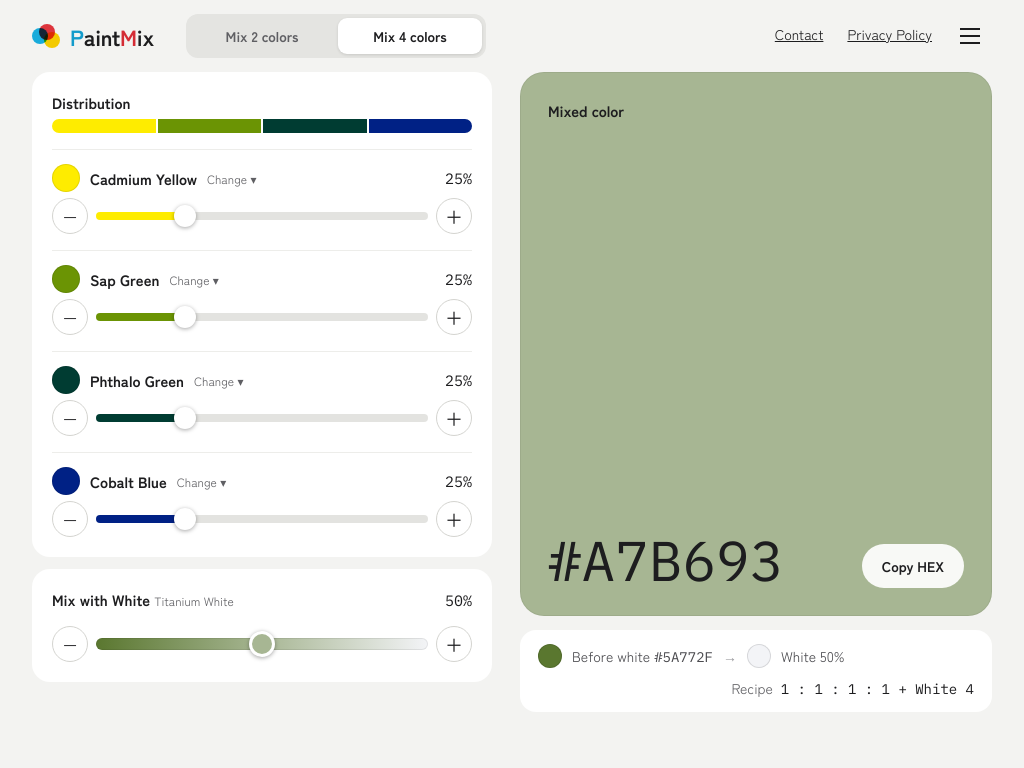
Test case: four-color mixing › selects a paint for a four-color slot
Click the button with aria-label "Select Color 3:" at (244, 380), box top-left (52, 362), bottom-right (435, 398)
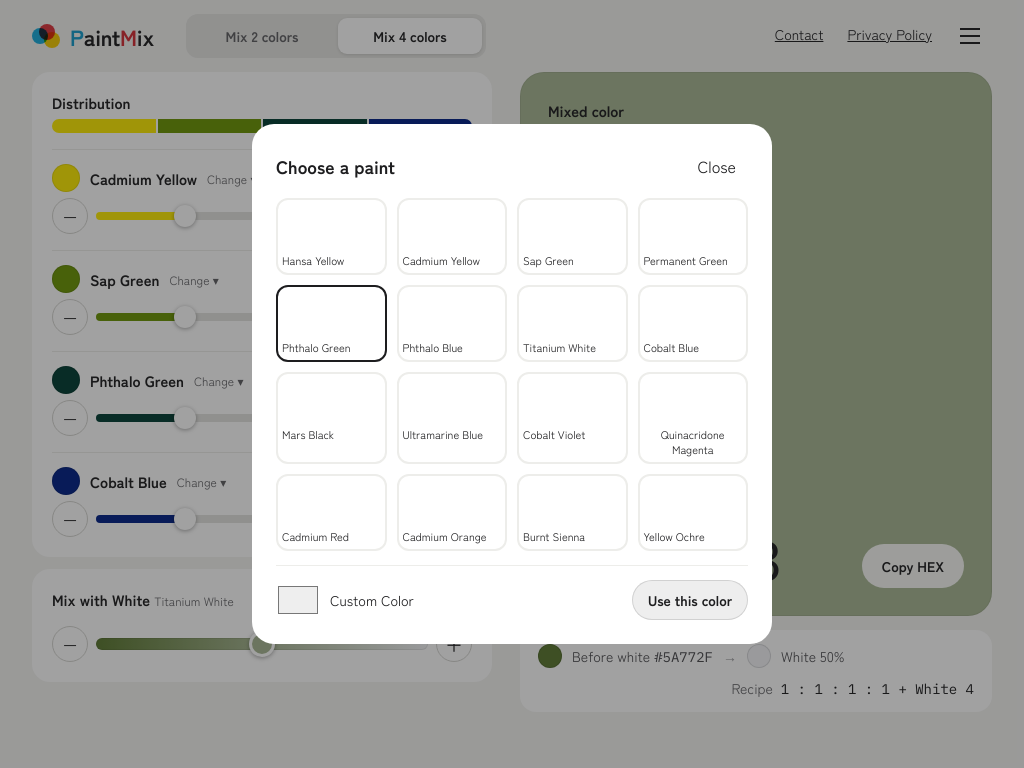
Click the button "Mars Black" at (331, 418), box top-left (276, 372), bottom-right (386, 464)
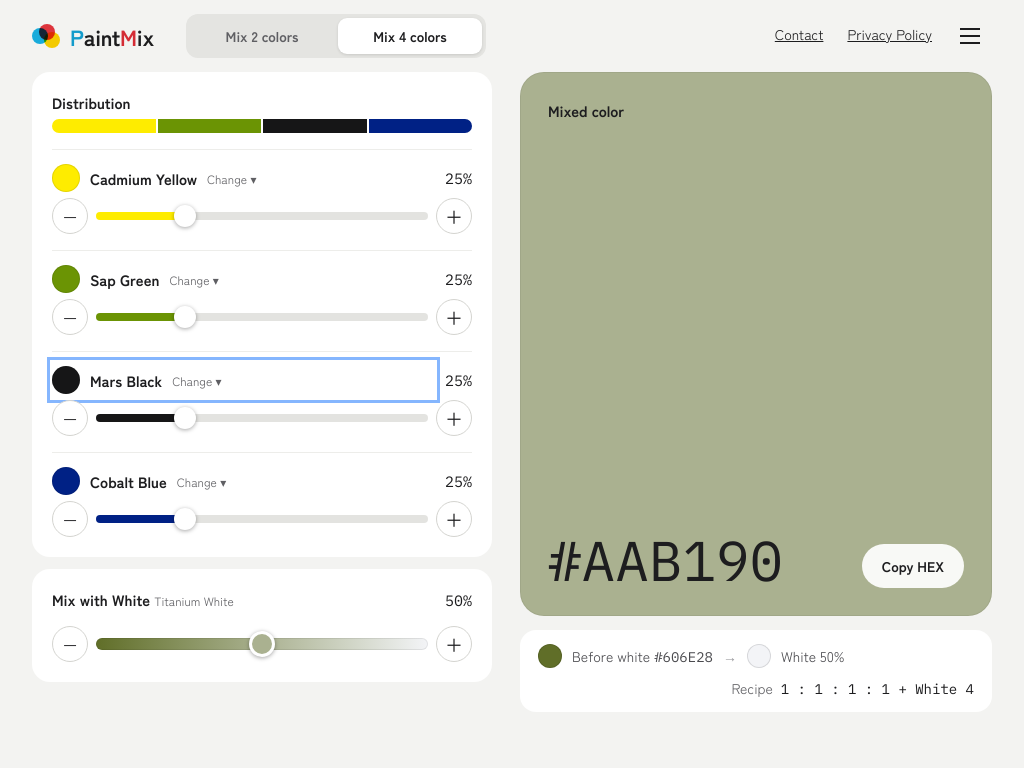
Result: the button with aria-label "Select Color 3: Mars Black" is shown at top-left (52, 362), bottom-right (435, 398)
